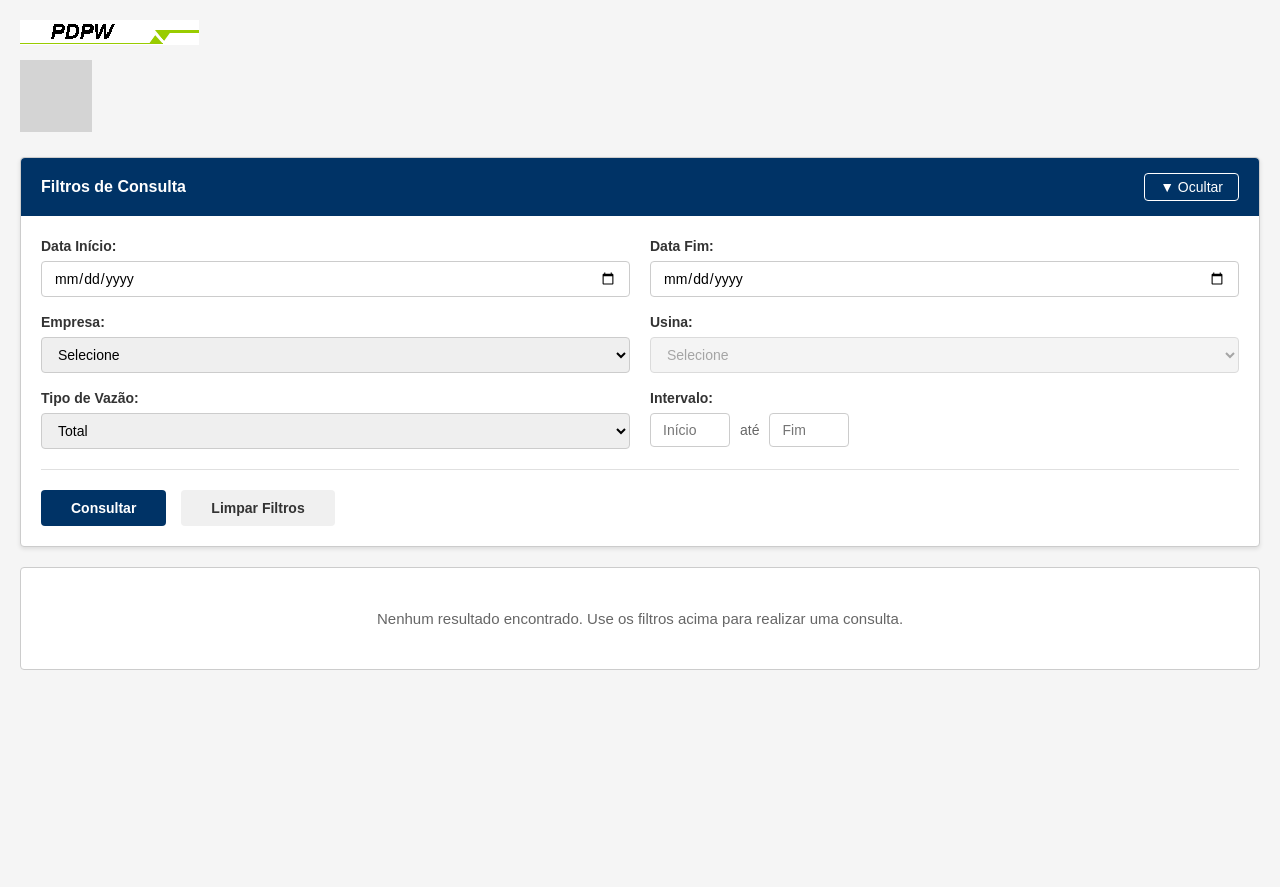
Test case: FlowQuery Component › Consulta › deve exibir resumo agregado após consulta
This screenshot has width=1280, height=887.
Click the button "Consultar" at (104,508), box [41, 490, 166, 526]
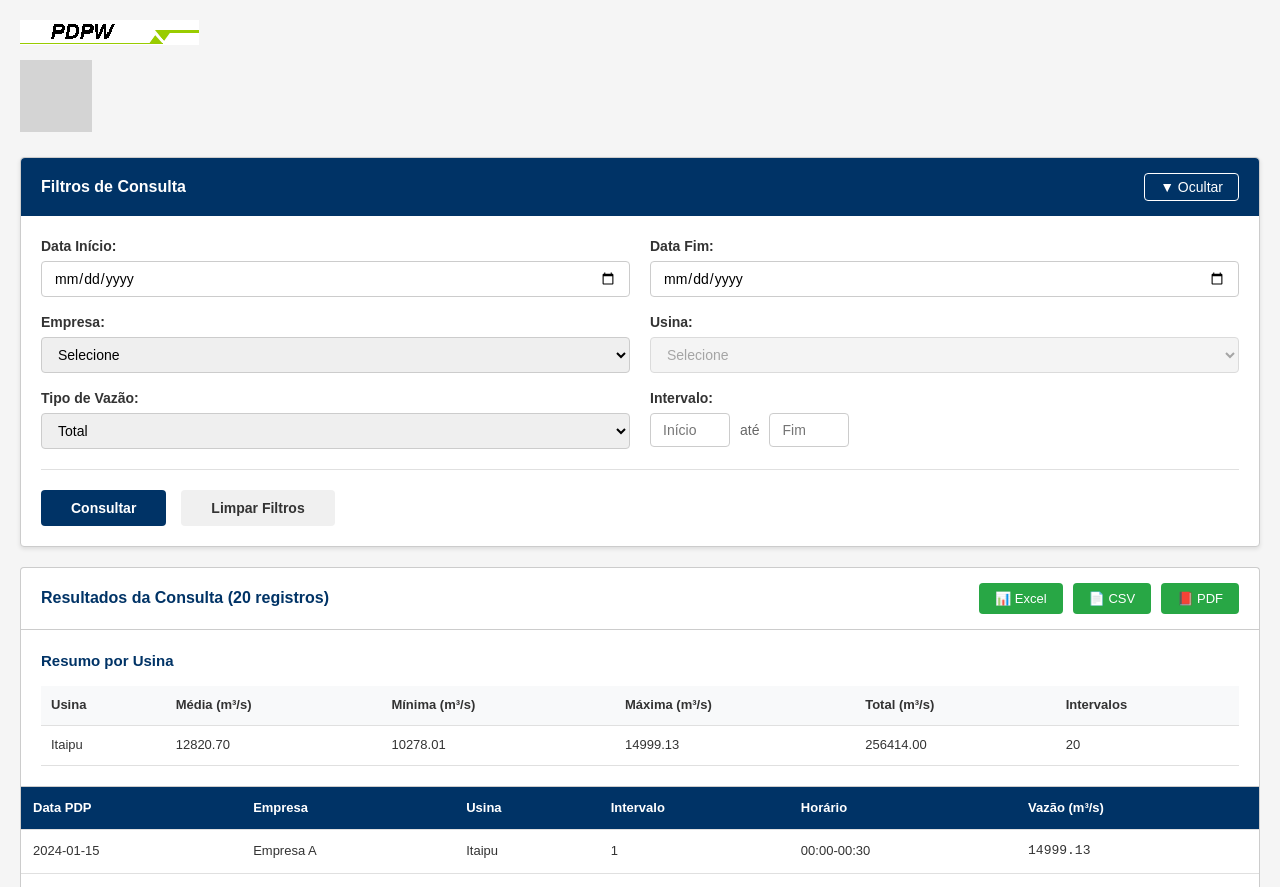
Result: the heading "Resumo por Usina" is shown at [41, 652, 174, 669]
